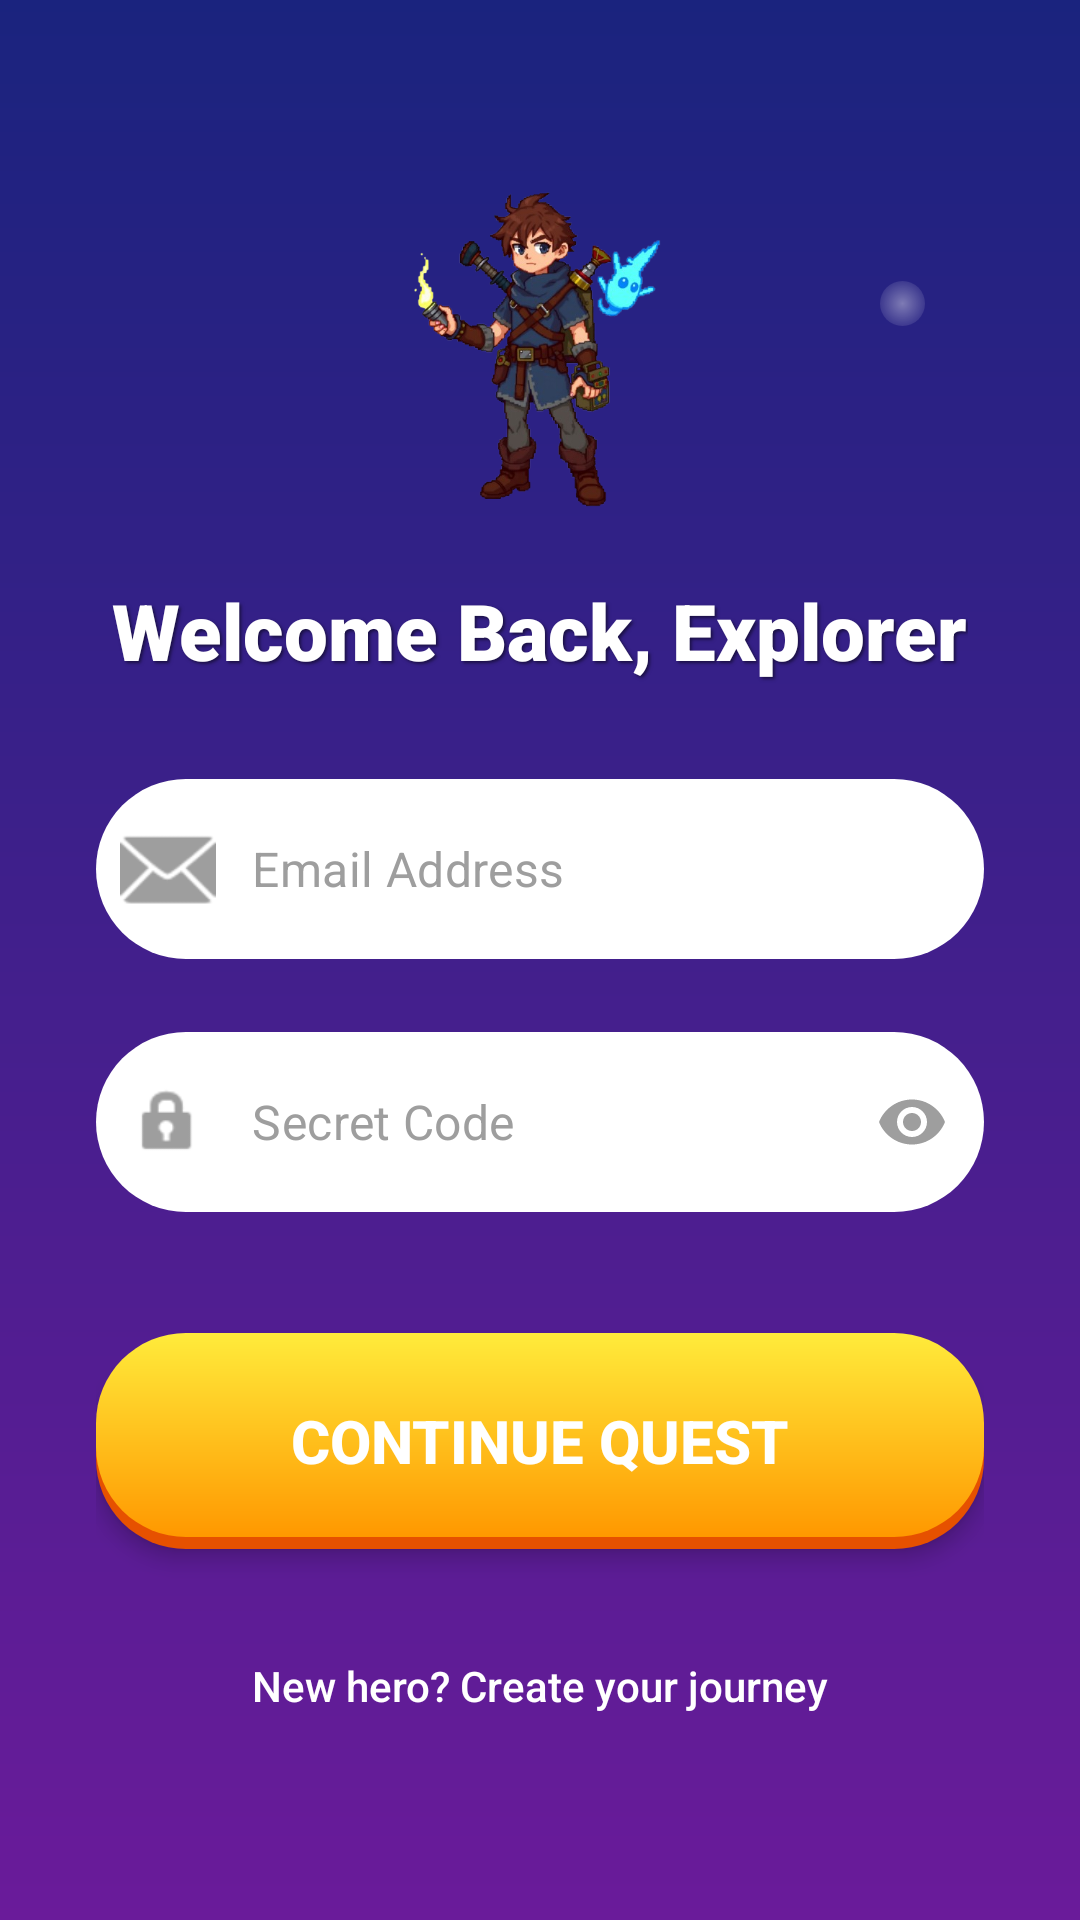

Locate icon controls on the screen. Image size 1080w x 1920h, boxes as [left=x1, top=y1, right=x2, bottom=y2].
Explorer Avatar: [left=414, top=193, right=660, bottom=506]
